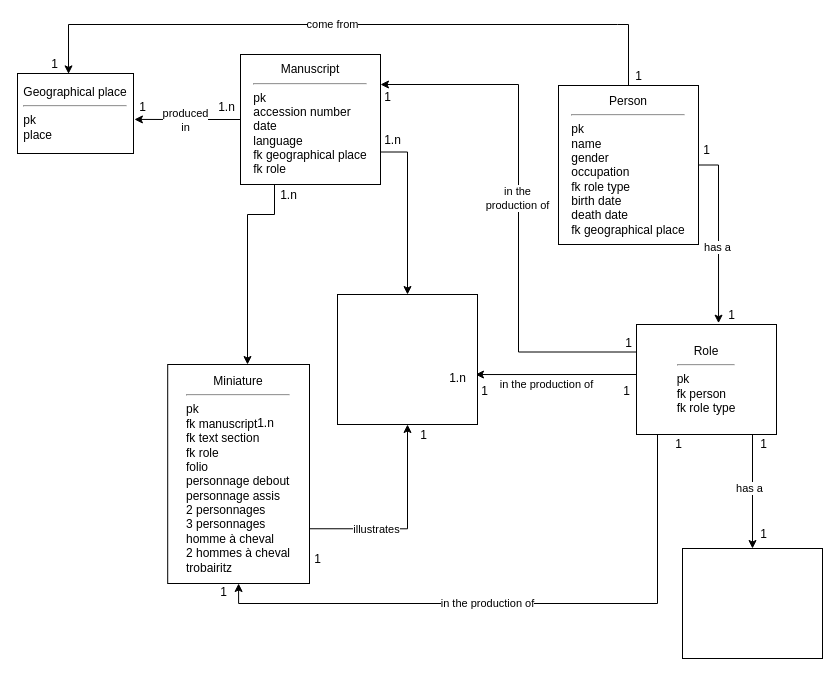
Image size: 840x676. Some labels were removed from this diagram. The shapes that lost their labels are listed below. From the top down, each one's box as (x1, y1, x2, y2) in pixels, then its label:
(336, 294, 478, 424): Text pk fk manuscript fk role title folio
(682, 548, 822, 658): Role type pk label description
